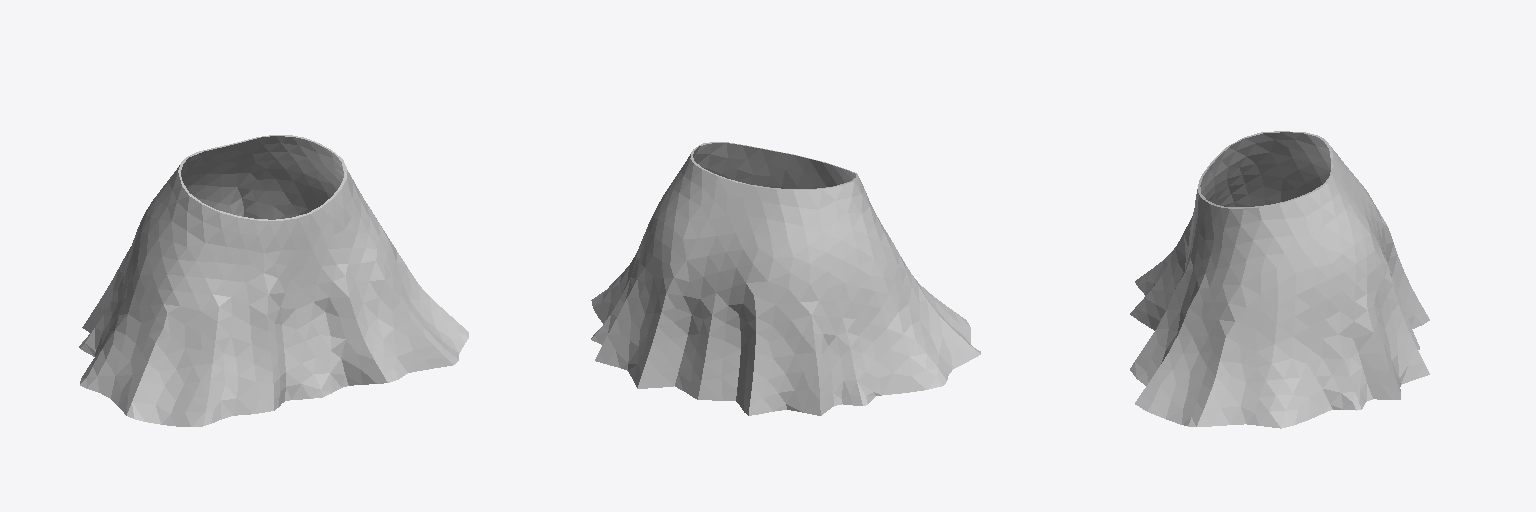
Rendered from skirt1252.obj.
3 views of the same model, side by side, from view 1: azimuth 30°, elevation 25°; view 2: azimuth 150°, elevation 25°; view 3: azimuth 270°, elevation 25° (orthographic).
Bounding box in the file's own units: 0.495 × 0.2519 × 0.3663.